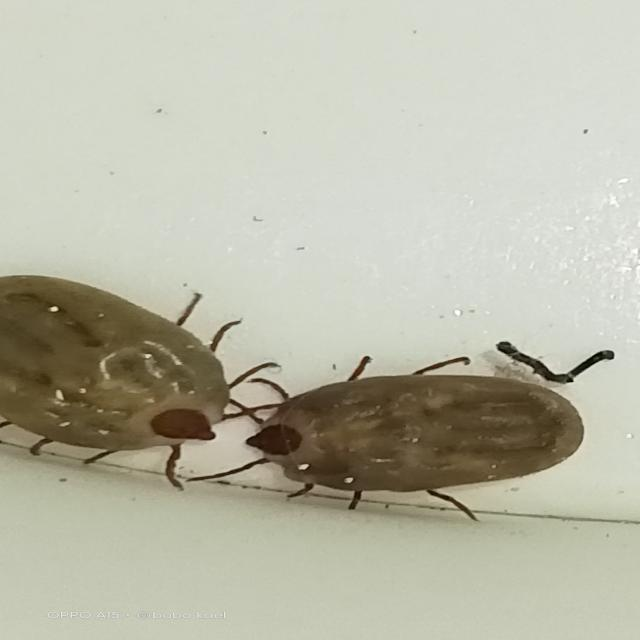Rhipicephalus Sanguineus-F-Fed: (243, 345, 616, 511), (0, 276, 231, 460)
